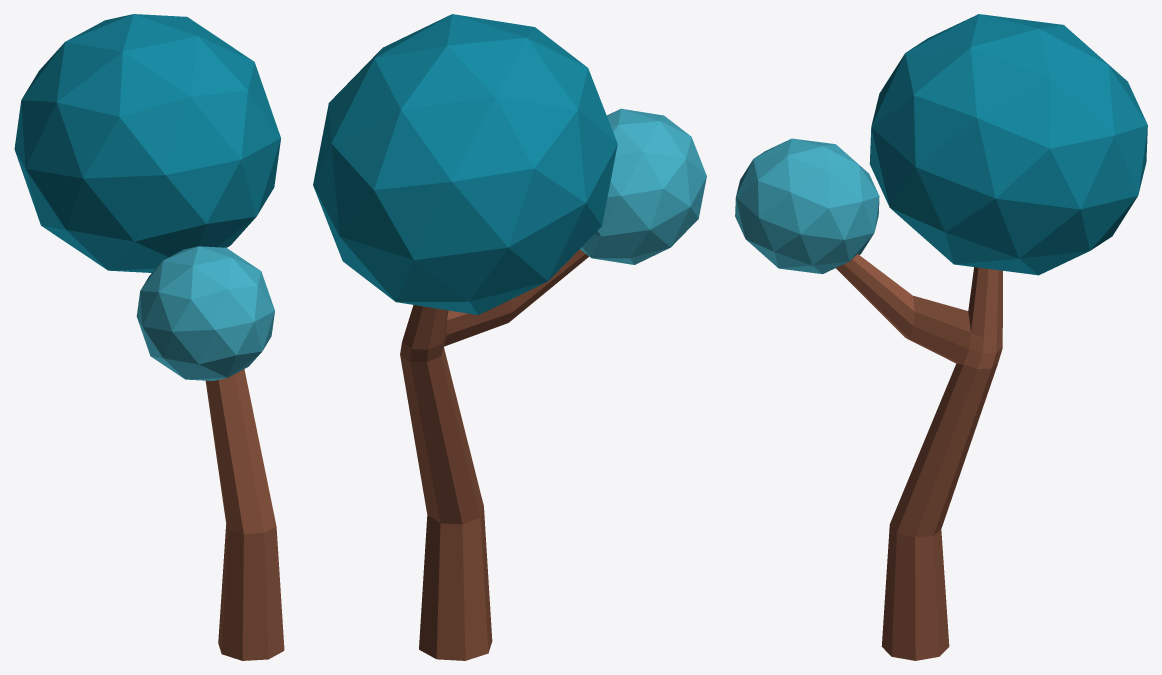
The model's file is Tree_02_summer_blue_mat.fbx.
3 views of the same model, side by side, from view 1: azimuth 30°, elevation 25°; view 2: azimuth 150°, elevation 25°; view 3: azimuth 270°, elevation 25° (orthographic). The views are drawn at different scales.
Visible parts, largest first — view 1: Tree_02_summer_blue_mat; view 2: Tree_02_summer_blue_mat; view 3: Tree_02_summer_blue_mat.
Boxes of the visible parts, x1=… form: Tree_02_summer_blue_mat: x1=14, y1=14, x2=284, y2=660; Tree_02_summer_blue_mat: x1=313, y1=14, x2=706, y2=660; Tree_02_summer_blue_mat: x1=735, y1=14, x2=1147, y2=660.
Bounding box in the file's own units: 71.42 × 177 × 112.
